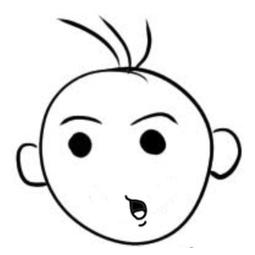ear: (204, 121, 244, 178), (9, 137, 46, 189)
eye: (134, 125, 172, 161), (60, 130, 98, 160)
eyebrow: (55, 112, 110, 131), (130, 108, 181, 126)
open_mouth: (117, 189, 156, 228)
